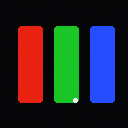0 point: (73, 98, 77, 102)
